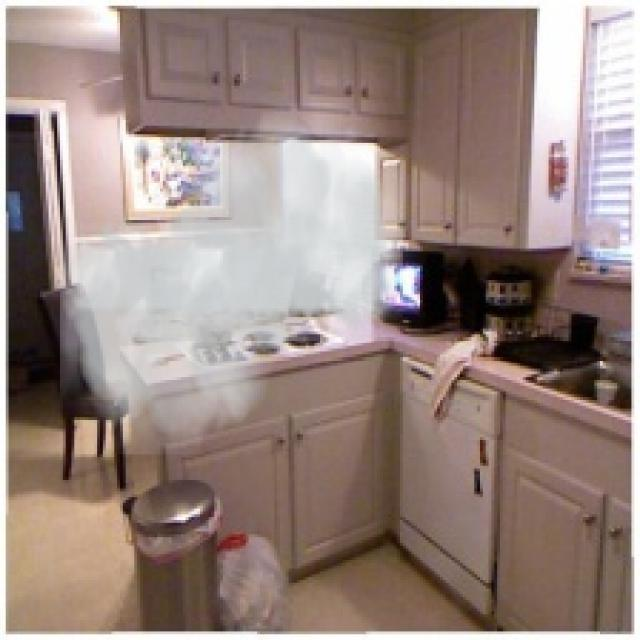Smoke: (60, 102, 403, 454)
